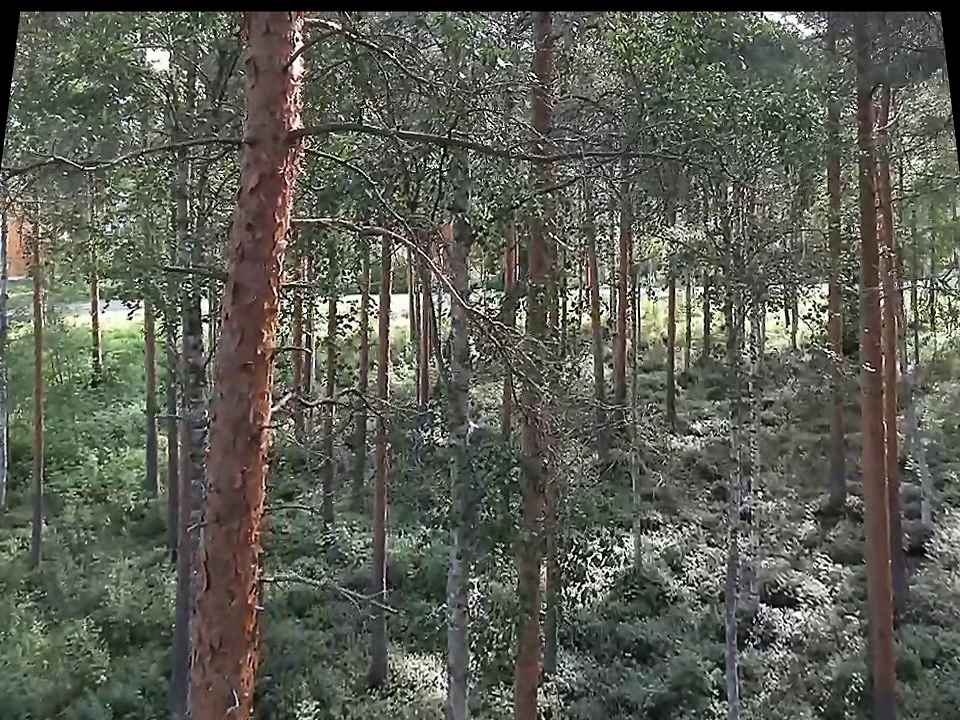branch: (301, 107, 576, 173), (299, 209, 467, 312), (7, 127, 240, 189), (263, 557, 400, 620), (278, 380, 413, 429), (157, 256, 229, 286)
trunk: (175, 16, 309, 716), (851, 30, 912, 713), (529, 16, 561, 712), (436, 128, 474, 710), (577, 223, 635, 468), (820, 134, 852, 517), (373, 237, 400, 688), (22, 209, 48, 571), (137, 293, 166, 499), (321, 299, 342, 526), (84, 179, 105, 382), (354, 262, 368, 527), (659, 284, 680, 428)
